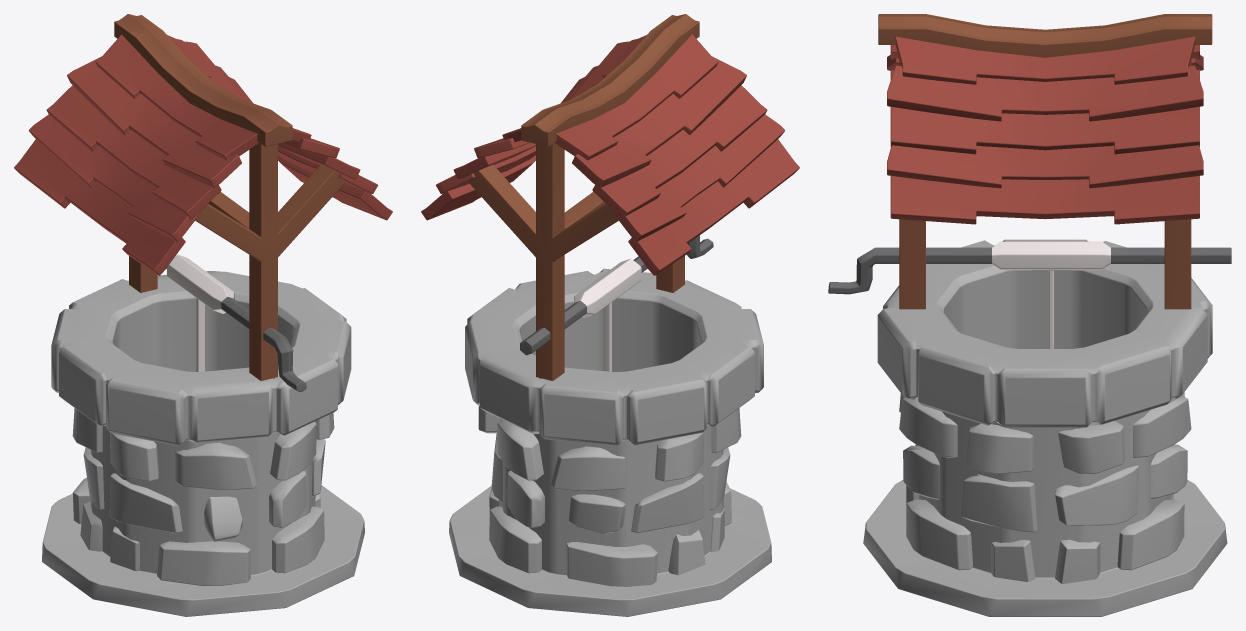
File: Well.glb
3 views of the same model, side by side, from view 1: azimuth 30°, elevation 25°; view 2: azimuth 150°, elevation 25°; view 3: azimuth 270°, elevation 25° (orthographic). The views are drawn at different scales.
Parts seen in each view (by area): view 1: Well; view 2: Well; view 3: Well.
Boxes of the visible parts, x1,y1,x2,y2 form: Well: (14,14,392,616); Well: (421,14,799,616); Well: (828,14,1231,616).
Bounding box in the file's own units: 1.28 × 2.14 × 1.49.
